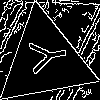Y: (19, 35, 69, 77)
